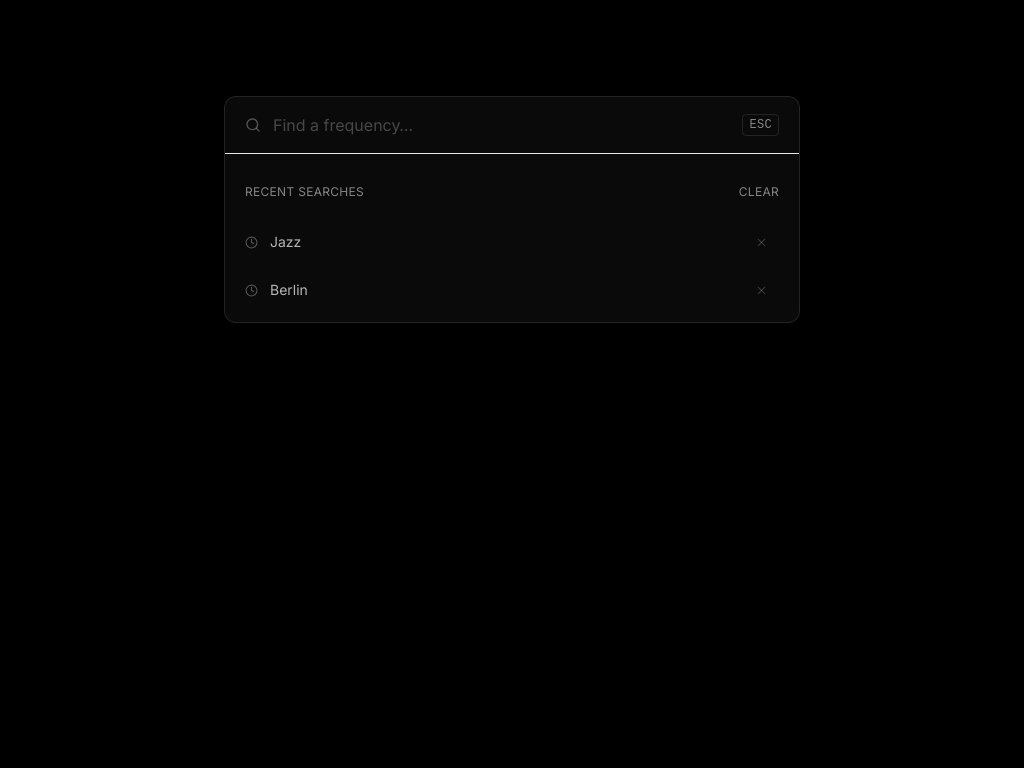
GlobalSearch › allows removing individual terms from recent searches
Check: the text "Jazz" is shown, box [270,232,301,252]
Check: the text "Berlin" is shown, box [270,280,308,300]
Click the button with test id "remove-recent-Jazz": coordinates (761, 242) [743,224,779,260]
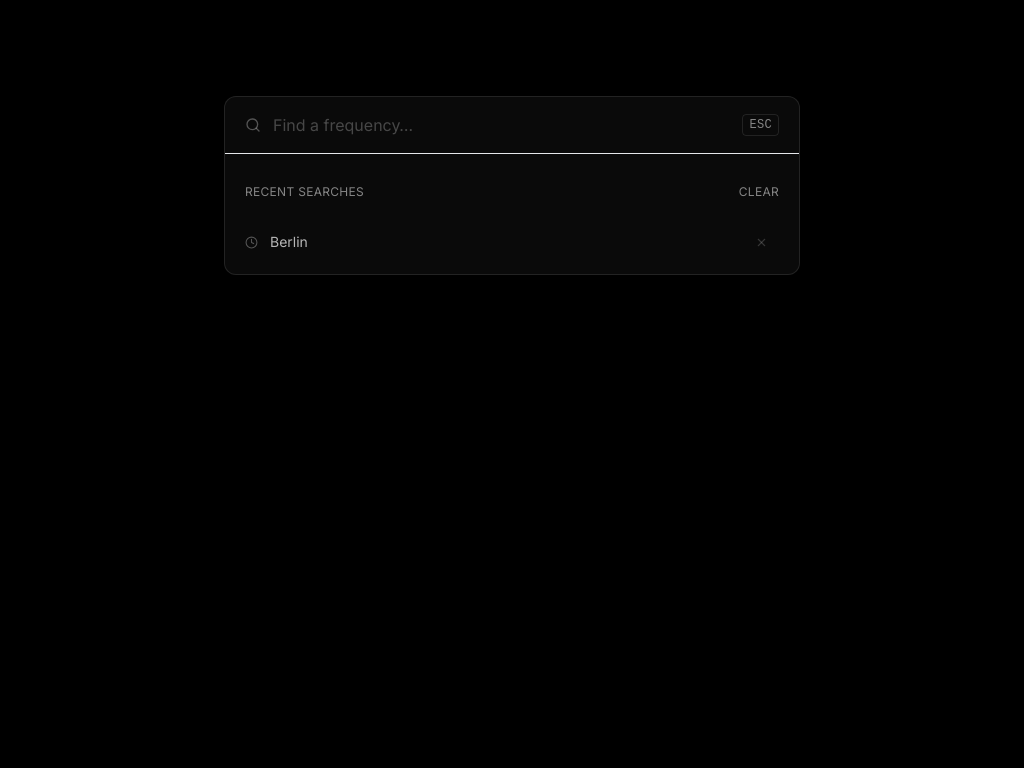
Check: the text "Berlin" is shown, box [270,232,308,252]
Check: the button "Jazz" is gone
